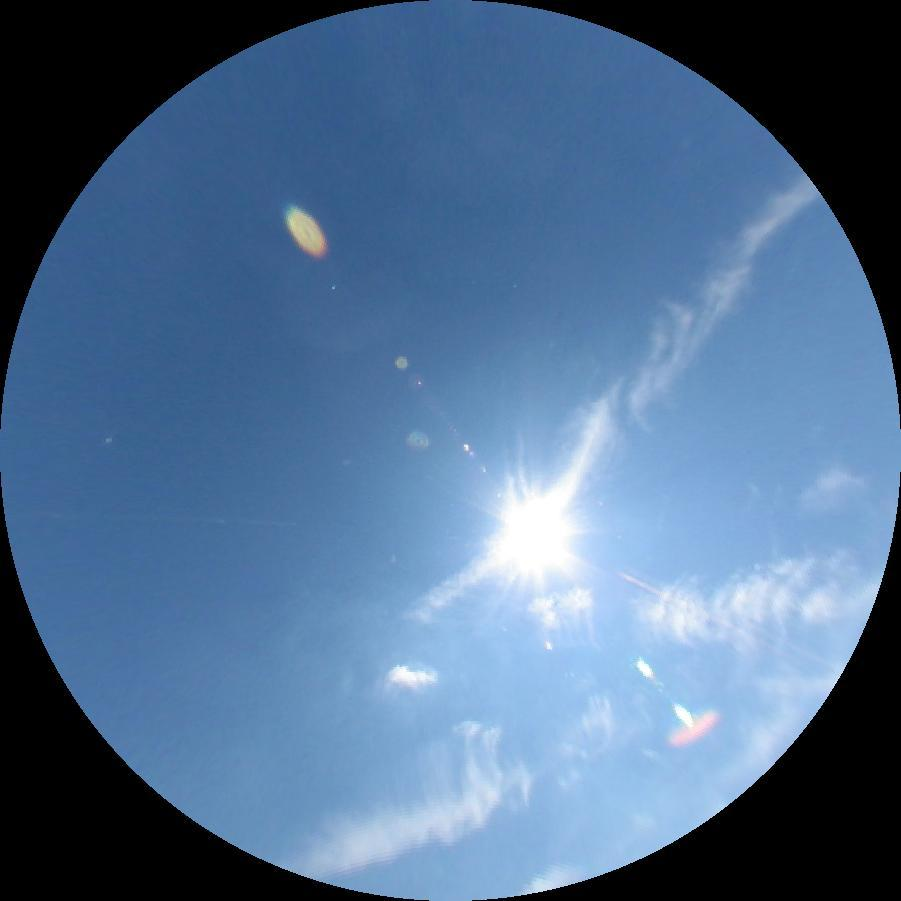contrail veryold: (393, 154, 830, 659)
parasite: (613, 568, 745, 637)
sun: (497, 492, 573, 576)
